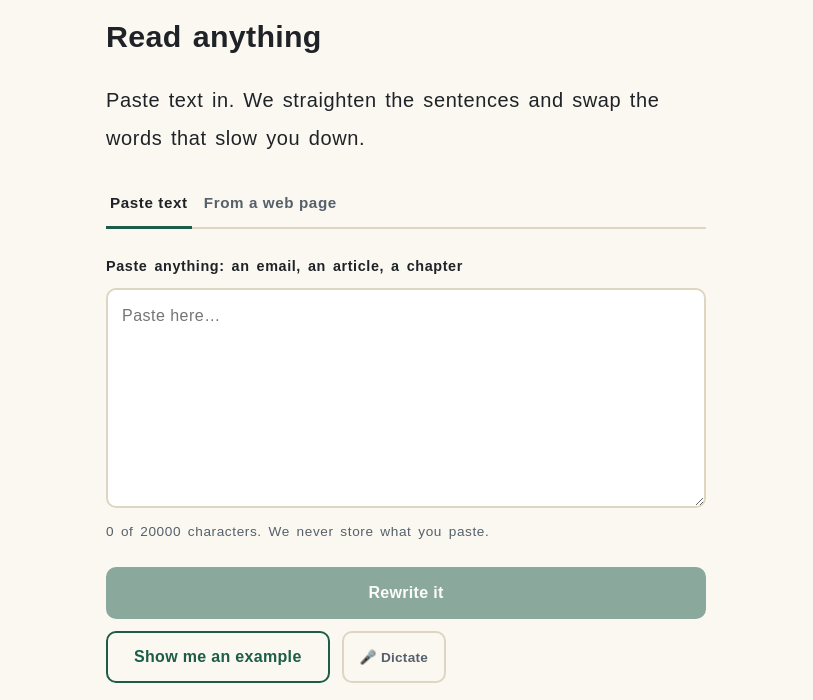
Read anything — Summary (v0.6, Pro) › lets a Pro reader generate and see a labelled AI summary
Type "The clock struck noon." into the text box labelled "Paste anything: an email, an article, a chapter".
click(406, 398); type("The clock struck noon.")  # box 106,288 -> 706,508
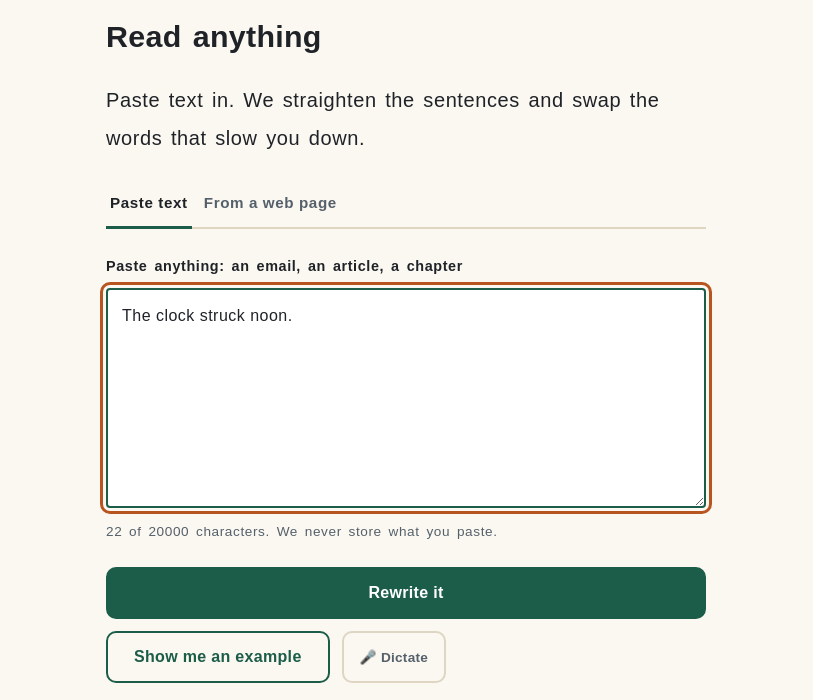
Click the button "Rewrite it".
click(406, 593)  # box 106,567 -> 706,619
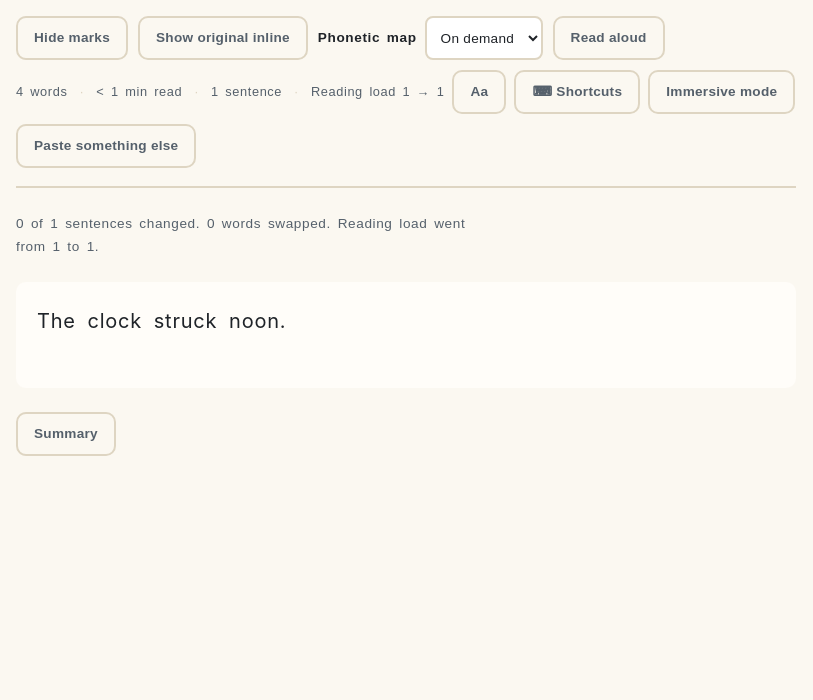
Check: the text "sentences changed" is shown, box 58,216 -> 207,231
Click the button "Summary".
click(66, 434)  # box 16,412 -> 116,456
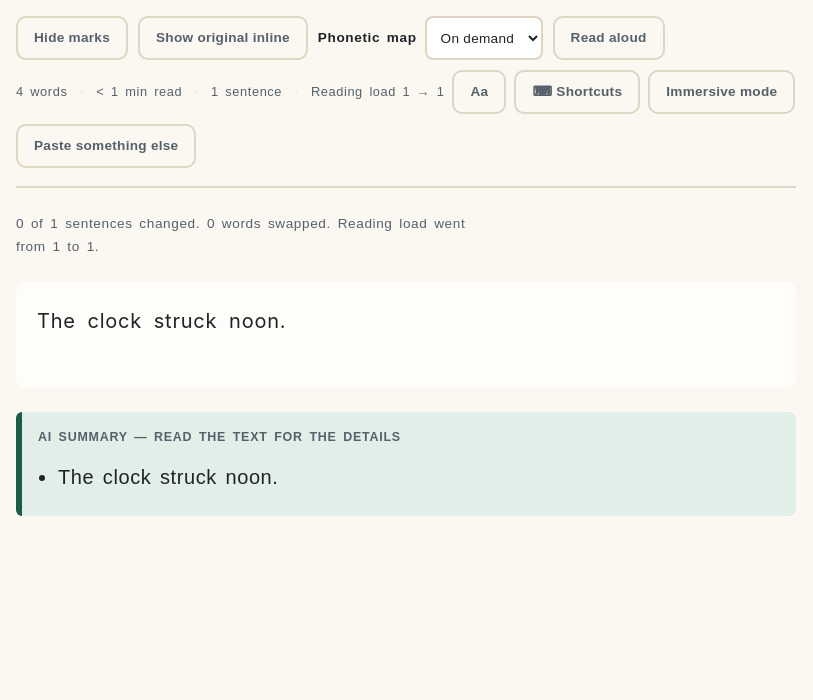
Check: the list item "The clock struck noon." is shown, box 58,466 -> 278,488
Check: the text "AI summary — read the text for the details" is shown, box 38,430 -> 401,444
